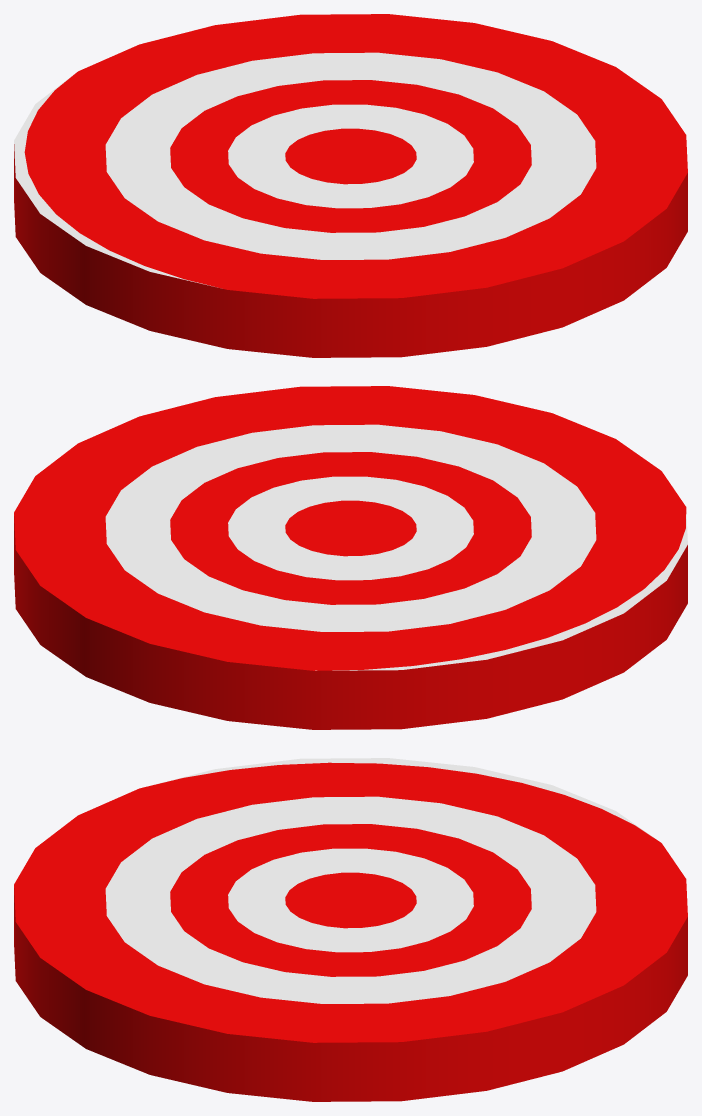
File: Scheibe_1_5.dae
The picture shows the model from 3 angles, top to bottom: view 1: azimuth 30°, elevation 25°; view 2: azimuth 150°, elevation 25°; view 3: azimuth 270°, elevation 25°; orthographic projection.
Visible parts, largest first — view 1: ID98, ID92, ID86, ID78, ID70, ID104; view 2: ID98, ID92, ID86, ID78, ID70, ID104; view 3: ID98, ID92, ID86, ID78, ID70, ID104.
Part boxes in pixels (box(x1,y1,x2,y2)): ID98: box(14, 14, 687, 357); ID92: box(105, 52, 596, 259); ID86: box(170, 80, 531, 232); ID78: box(228, 104, 473, 208); ID70: box(285, 128, 416, 184); ID104: box(14, 74, 217, 287); ID98: box(14, 386, 687, 729); ID92: box(105, 424, 596, 631); ID86: box(170, 452, 531, 604); ID78: box(228, 476, 473, 580); ID70: box(285, 500, 416, 556); ID104: box(315, 512, 687, 670); ID98: box(14, 762, 687, 1101); ID92: box(105, 796, 596, 1003); ID86: box(170, 824, 531, 976); ID78: box(228, 848, 473, 952); ID70: box(285, 872, 416, 928); ID104: box(147, 758, 656, 839).
Bounding box in the file's own units: 14.82 × 1.43 × 14.82.
